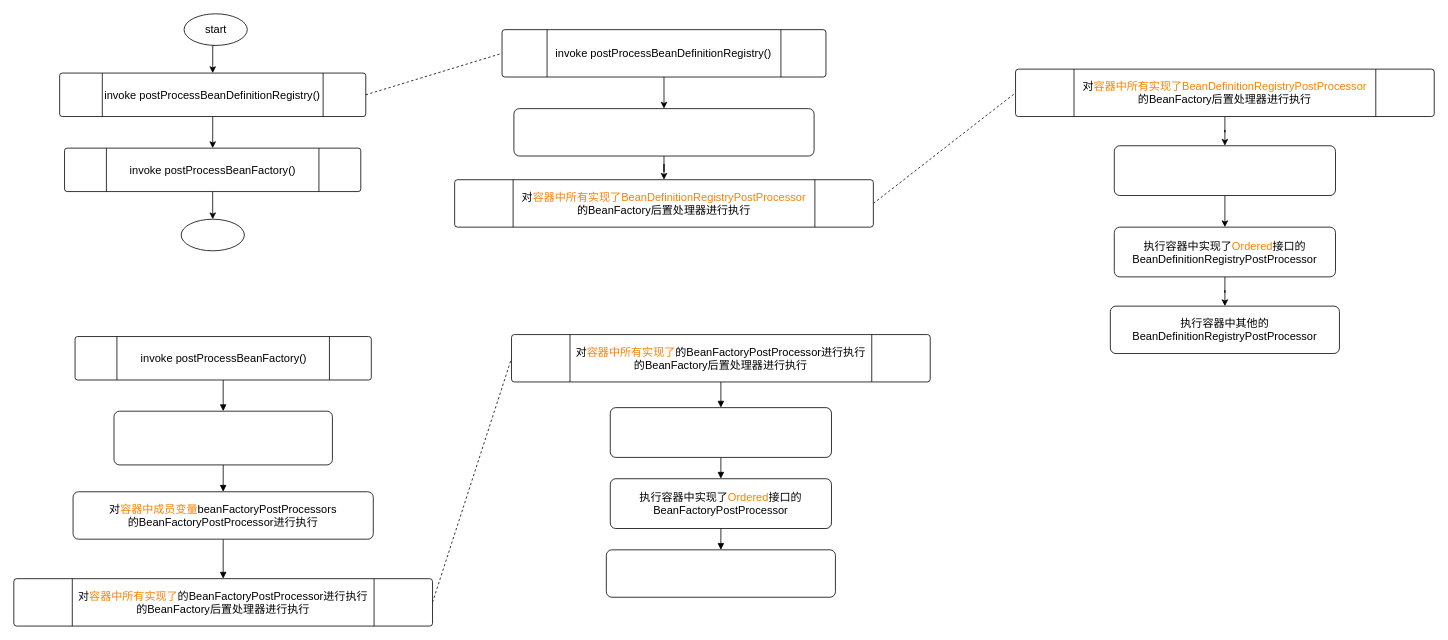
Image size: 1448x640. Some labels were removed from this diagram. The centre of each missing label's shape, as x and y in pixels:
"end" goes at [212,234].
"对 BeanDefinitionRegistryPostProcessor类型的 后置处理器进行执行" goes at [222,437].
"对 容器中成员变量 beanFactoryPostProcessors 的BeanDefinitionRegistryPostProcessor进行执行" goes at [663,132].
"执行容器中其他的BeanFactoryPostProcessor" goes at [720,573].
"执行容器中实现了 PriorityOrdered 接口的BeanDefinitionRegistryPostProcessor" goes at [1224,170].
"执行容器中实现了 PriorityOrdered 接口的BeanFactoryPostProcessor" goes at [720,432].
